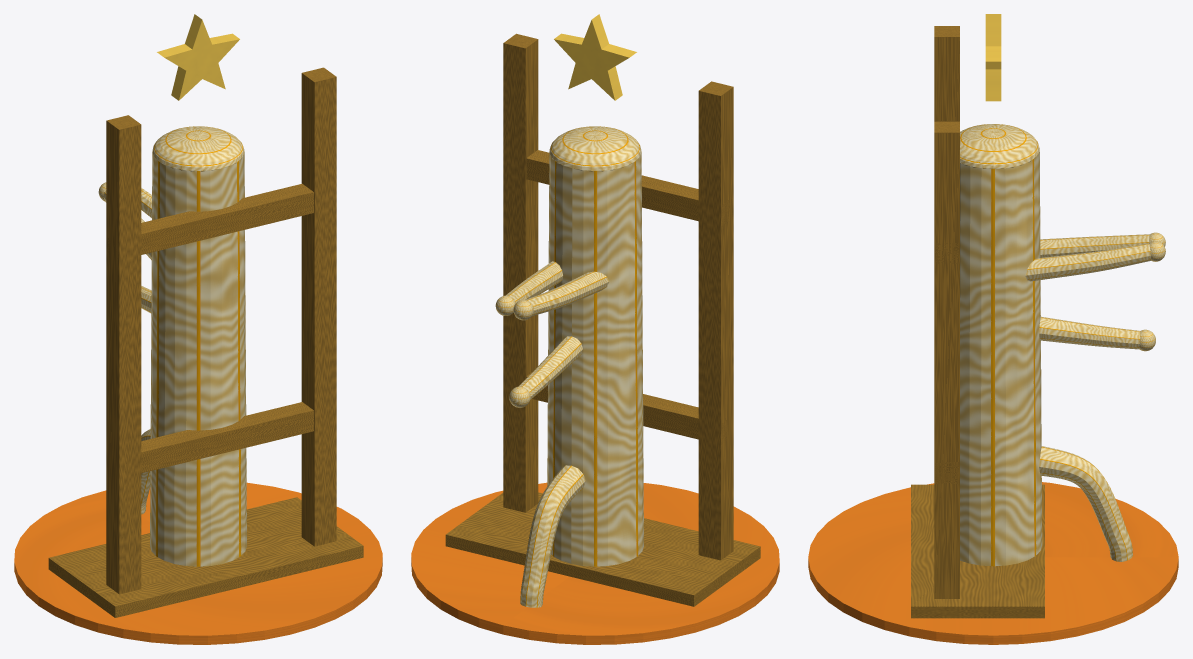
Rendered from R1_PhoenixDummy.obj.
3 renders of one model, left to right at view 1: azimuth 30°, elevation 25°; view 2: azimuth 150°, elevation 25°; view 3: azimuth 270°, elevation 25°, orthographic.
Parts seen in each view (by area): view 1: Frame, Post, Pad, Star, Arms; view 2: Frame, Post, Pad, Arms, Leg, Star; view 3: Post, Pad, Frame, Arms, Leg, Star.
Boxes of the visible parts, <box> form: Frame: <box>48,67,363,617</box>; Post: <box>150,126,246,566</box>; Pad: <box>14,482,382,644</box>; Star: <box>157,14,239,100</box>; Arms: <box>98,182,151,313</box>; Frame: <box>445,33,760,606</box>; Post: <box>547,126,643,566</box>; Pad: <box>411,482,779,644</box>; Arms: <box>495,261,609,407</box>; Leg: <box>520,465,585,607</box>; Star: <box>554,14,636,100</box>; Post: <box>960,124,1042,566</box>; Pad: <box>808,482,1178,644</box>; Frame: <box>911,26,1044,618</box>; Arms: <box>1025,232,1165,351</box>; Leg: <box>1039,446,1133,561</box>; Star: <box>985,14,1001,101</box>.
Bounding box in the file's own units: 7.2 × 11.9 × 7.2.
Materials: 6 (6 with a texture image).
